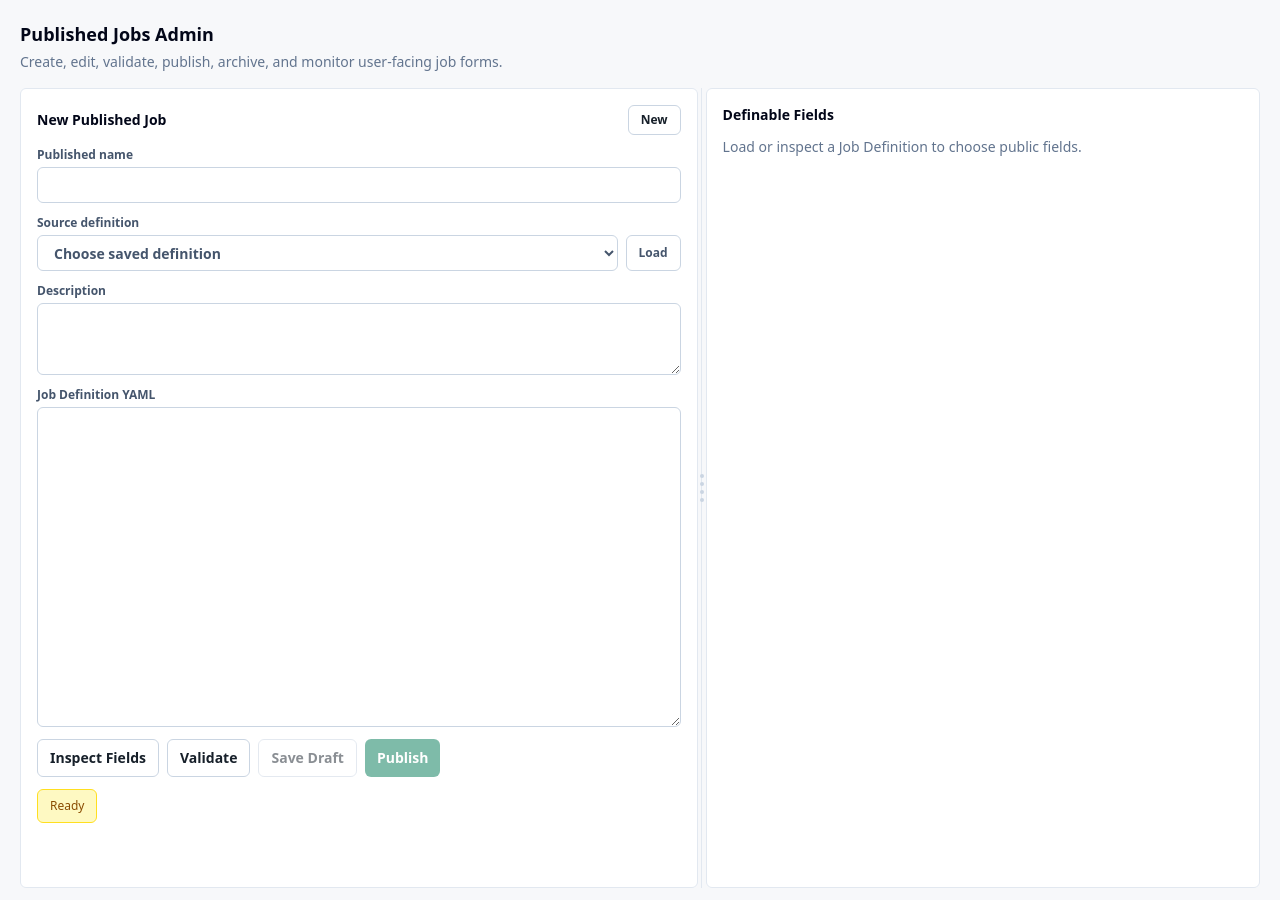
Test case: PublishedJobsAdminPage field editor › falls back to the example when a selected field has no real default
Click the button "Inspect Fields". click: (98, 758)
box: [37, 739, 159, 777]
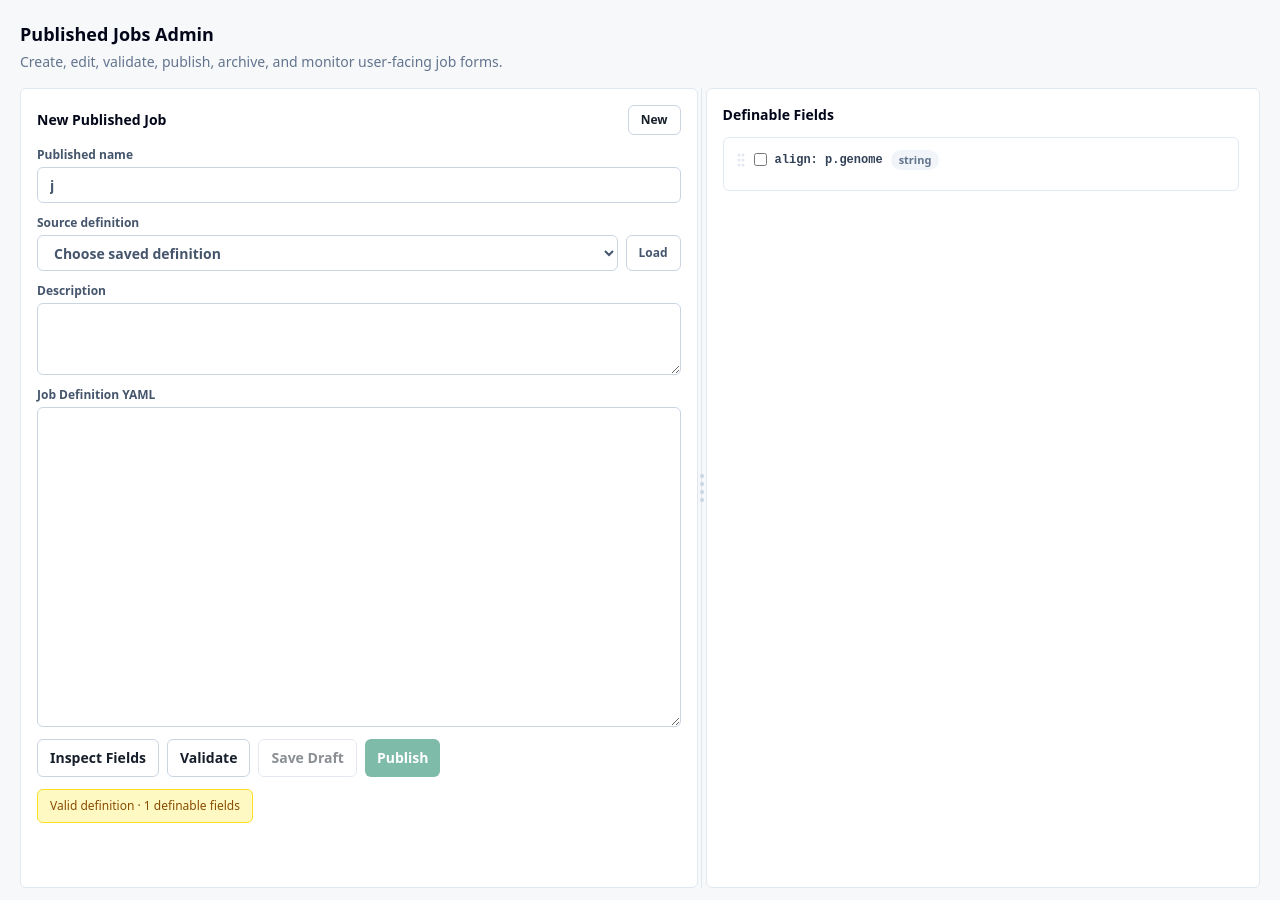
Expected: the text "Valid definition · 1 definable fields" is shown, [37, 789, 253, 823]
Click the checkbox. click: (760, 160)
box: [754, 153, 767, 166]
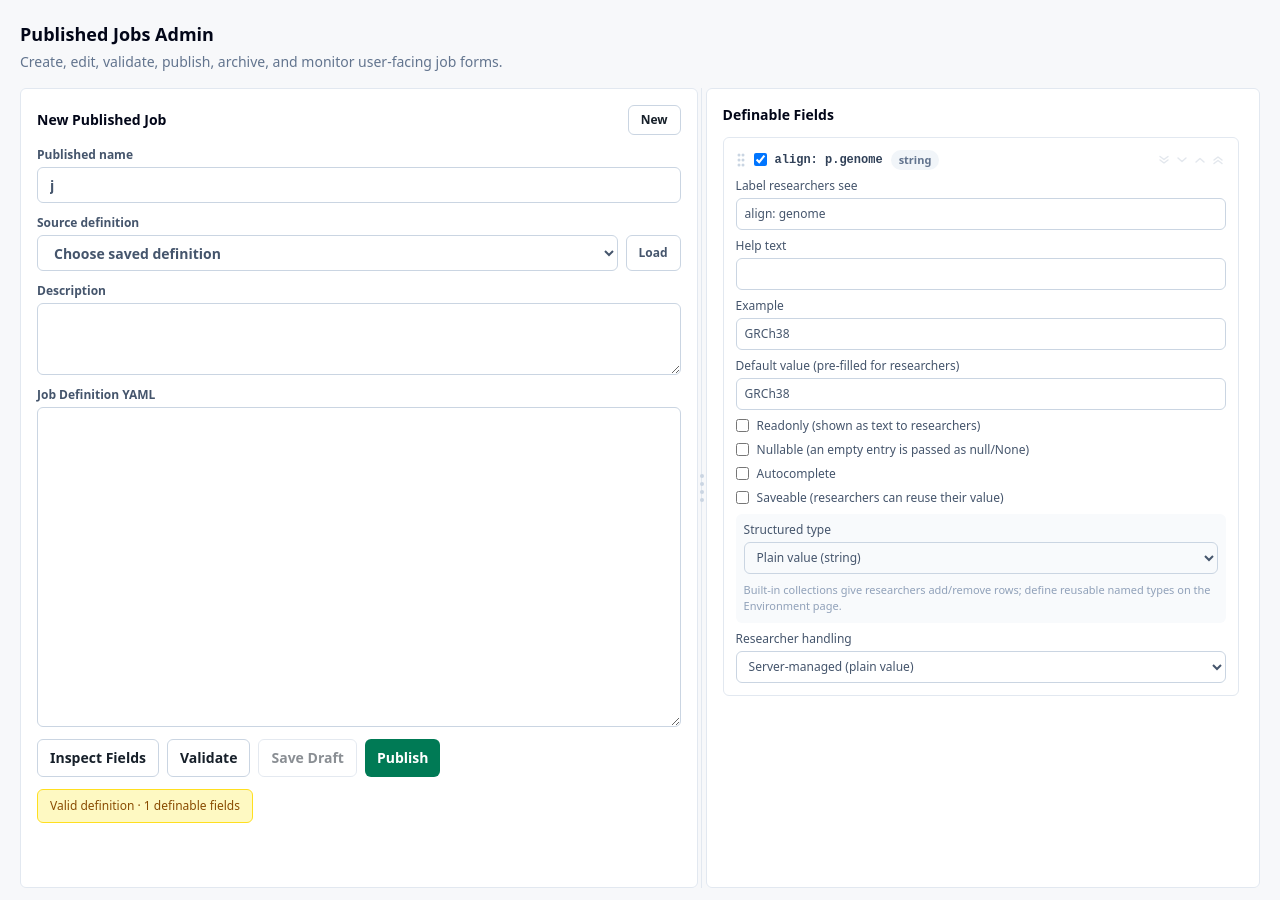
Expected: the number of fields showing "GRCh38" is 2, [736, 318, 1226, 350]; [736, 378, 1226, 410]
